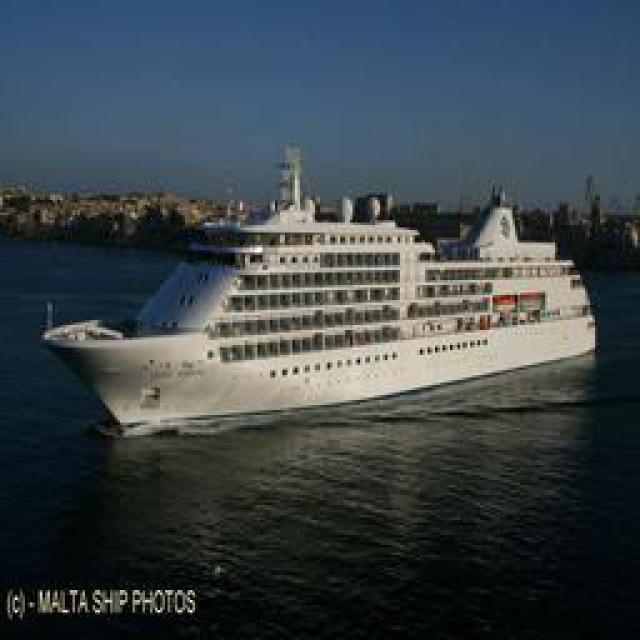Ship: (36, 171, 596, 431)
